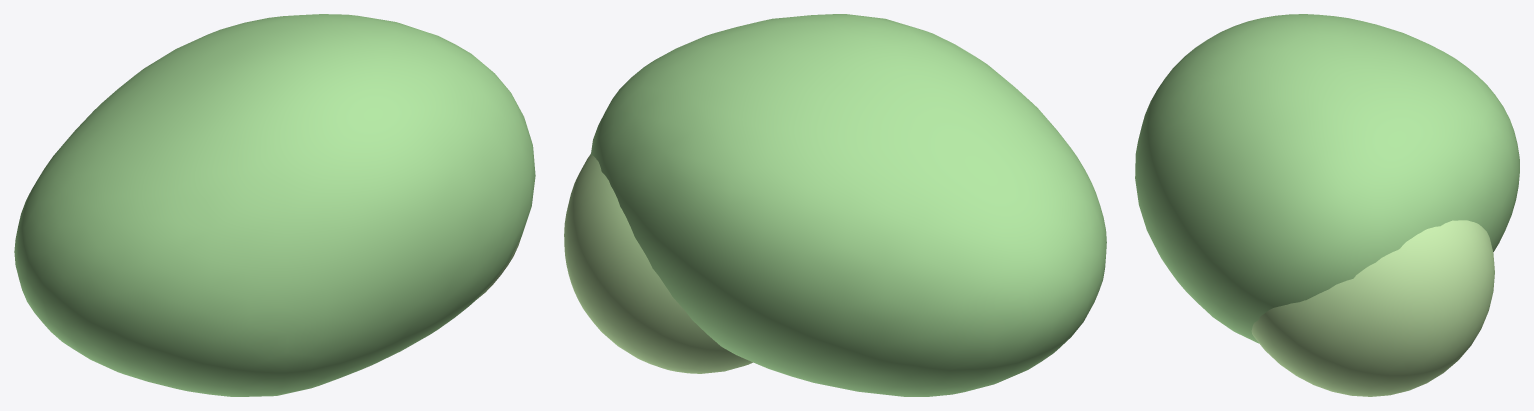
Rendered from bush.glb.
3 renders of one model, left to right at view 1: azimuth 30°, elevation 25°; view 2: azimuth 150°, elevation 25°; view 3: azimuth 270°, elevation 25°, orthographic. The views are drawn at different scales.
Parts seen in each view (by area): view 1: bush; view 2: bush; view 3: bush.
Boxes of the visible parts, <box> form: bush: <box>14,14,535,396</box>; bush: <box>564,14,1106,396</box>; bush: <box>1135,14,1519,396</box>.
Bounding box in the file's own units: 2.02 × 1.3 × 1.52.
